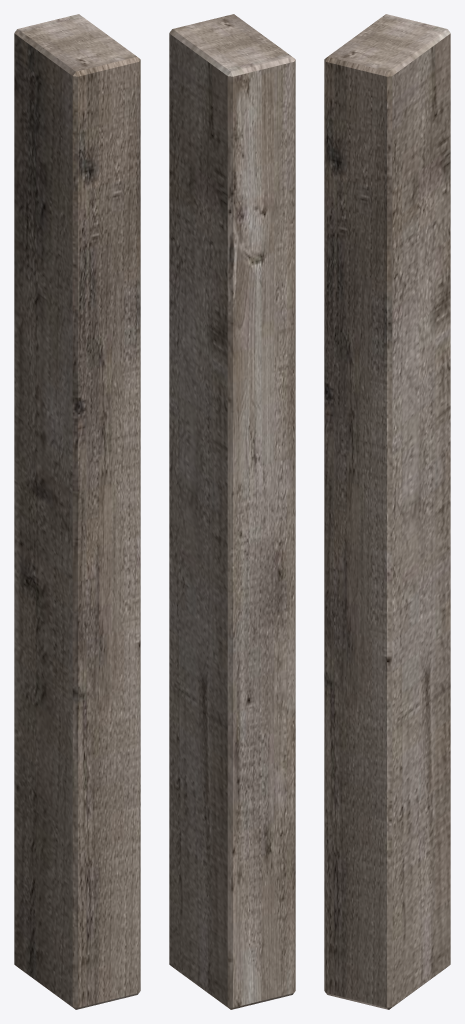
3 renders of one model, left to right at view 1: azimuth 30°, elevation 25°; view 2: azimuth 210°, elevation 25°; view 3: azimuth 330°, elevation 25°, orthographic.
Visible parts, largest first — view 1: pCube540; view 2: pCube540; view 3: pCube540.
Part boxes in pixels (left/top/right/bottom): pCube540: left=14, top=14, right=140, bottom=1009; pCube540: left=169, top=14, right=295, bottom=1009; pCube540: left=324, top=14, right=450, bottom=1009.
Bounding box in the file's own units: 4.76 × 62.56 × 7.54.
